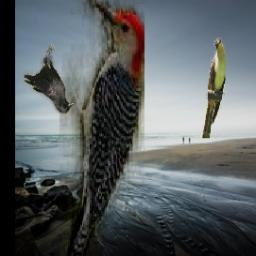Crow: (24, 45, 75, 115)
Cuckoo: (201, 37, 226, 138)
Woodpecker: (60, 0, 145, 256)
